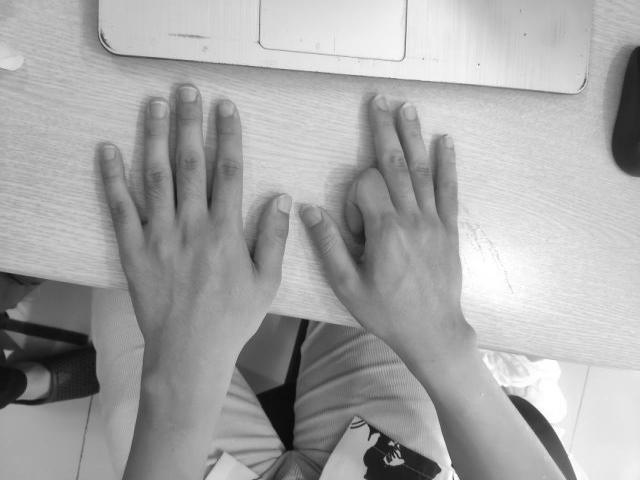not-gloved: (96, 83, 294, 351), (300, 91, 462, 321)
